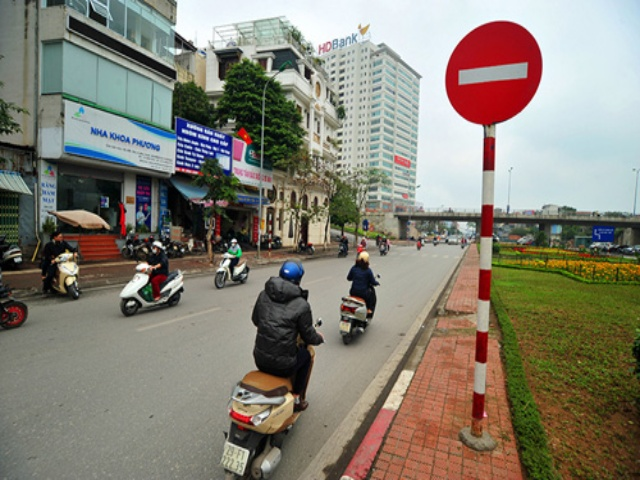Cam_di_nguoc_chieu: (443, 16, 548, 127)
